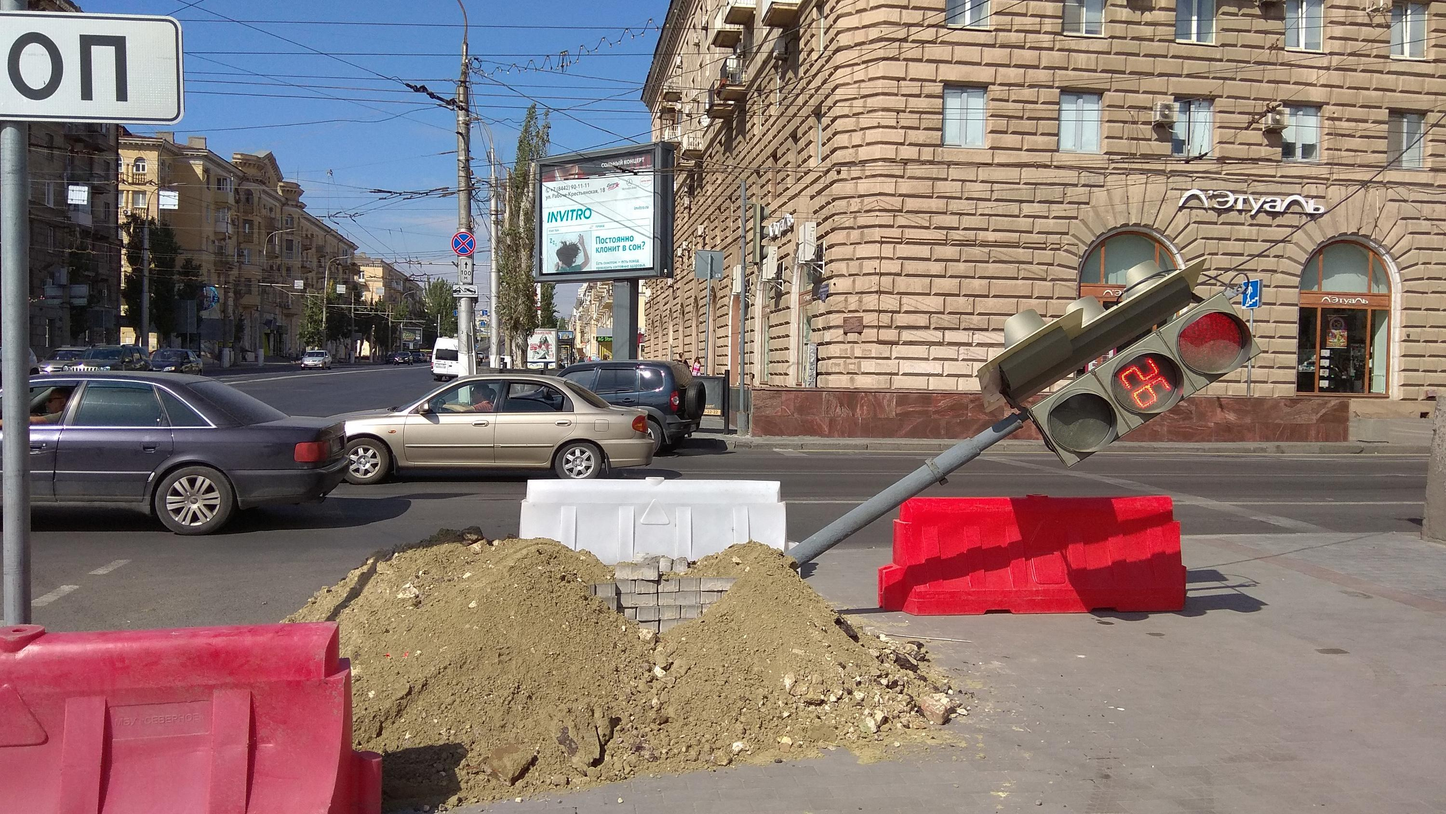off traffic light: (977, 255, 1259, 462)
